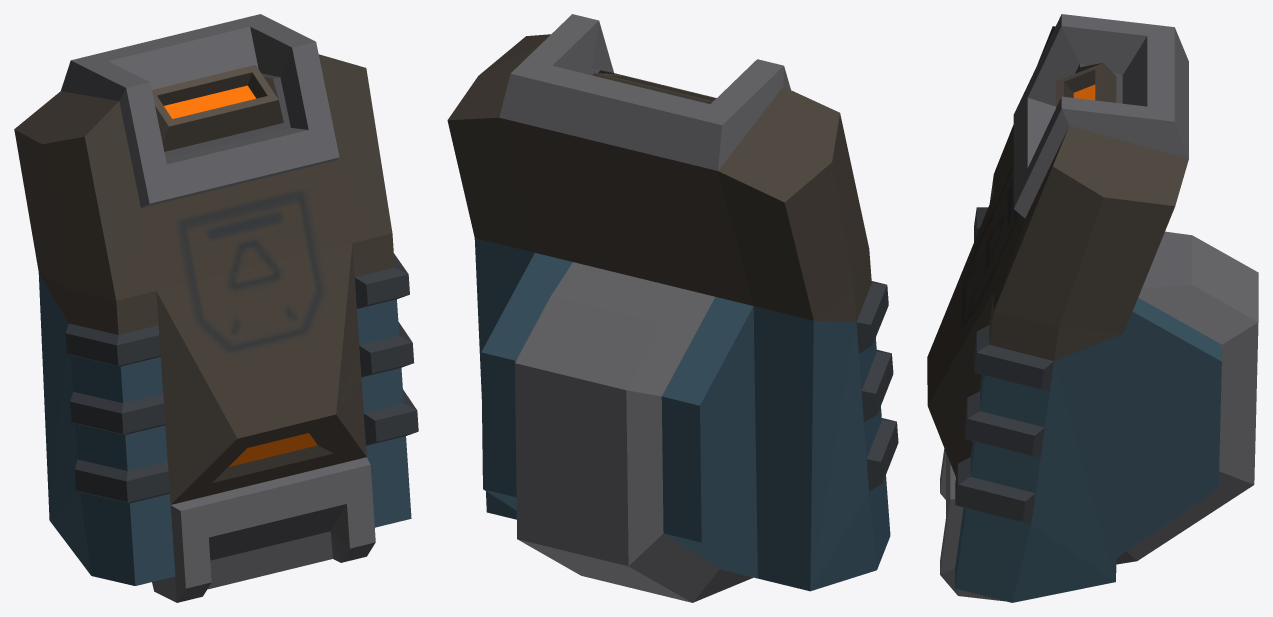
The model's file is SM_Mech_Leg_01_Armor_Kneepad_07.fbx.
The picture shows the model from 3 angles, left to right: view 1: azimuth 30°, elevation 25°; view 2: azimuth 150°, elevation 25°; view 3: azimuth 270°, elevation 25°; orthographic projection. The views are drawn at different scales.
Parts seen in each view (by area): view 1: SM_Mech_Leg_01_Armor_Kneepad_07; view 2: SM_Mech_Leg_01_Armor_Kneepad_07; view 3: SM_Mech_Leg_01_Armor_Kneepad_07.
Part boxes in pixels (box(x1,y1,x2,y2)): SM_Mech_Leg_01_Armor_Kneepad_07: box(14, 14, 418, 602); SM_Mech_Leg_01_Armor_Kneepad_07: box(447, 14, 898, 602); SM_Mech_Leg_01_Armor_Kneepad_07: box(927, 14, 1258, 602).
Size of the model in its own units: 38.2 by 53.88 by 32.69.
